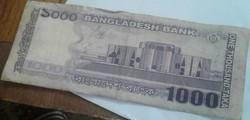1000 taka: (29, 1, 235, 112)
